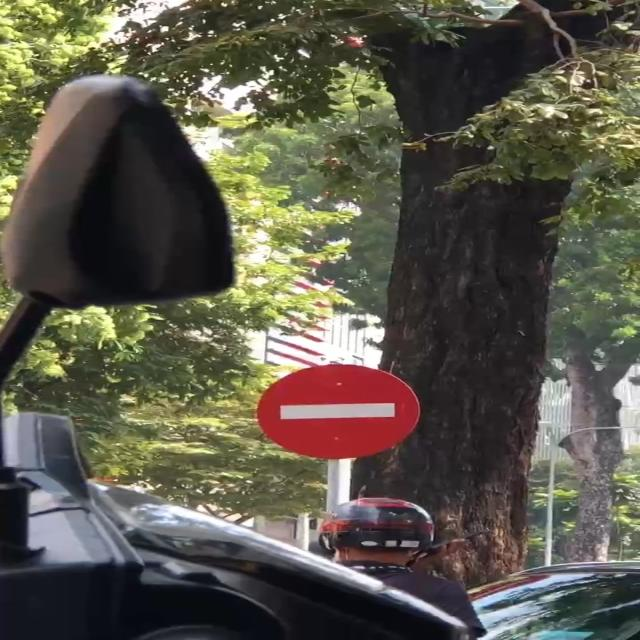Bien bao cam di nguoc chieu: (240, 360, 437, 462)
